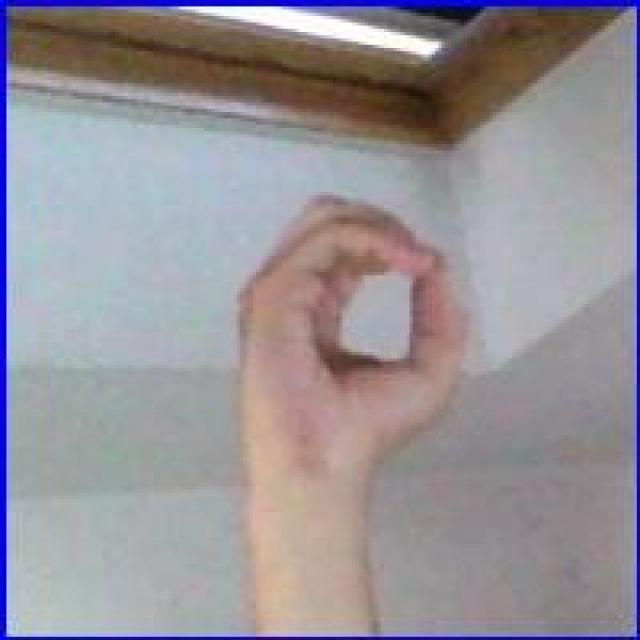O: (227, 186, 467, 483)
